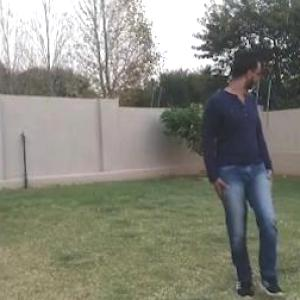follow: (212, 43, 273, 286)
